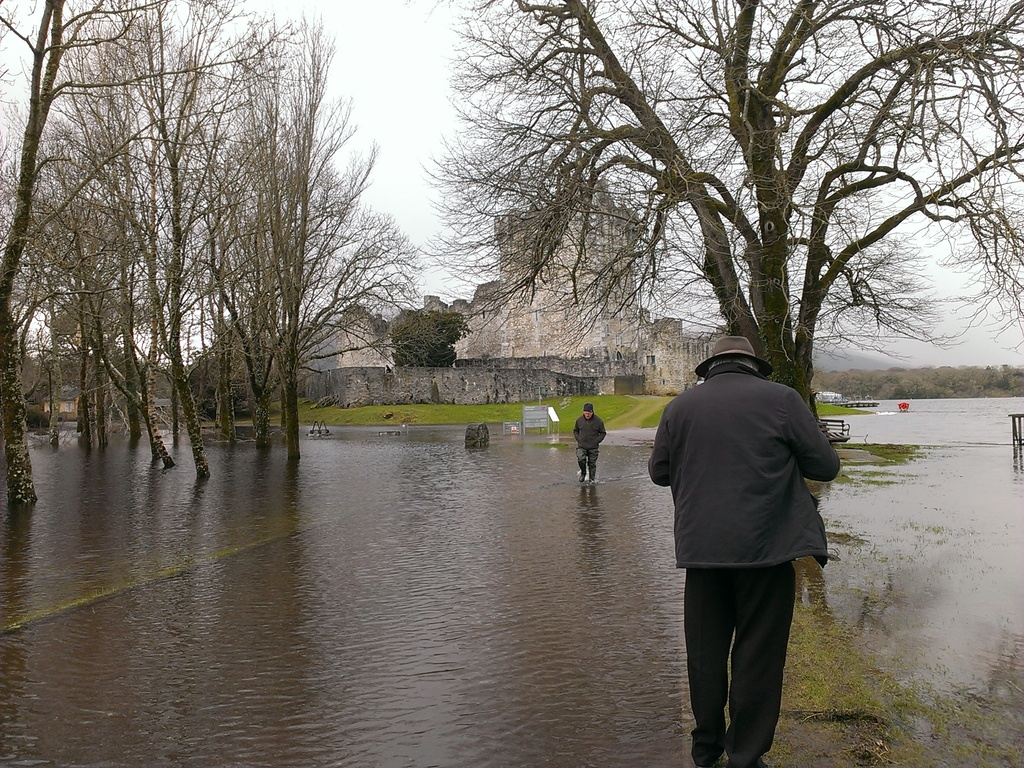Tree: (0, 0, 1023, 505)
